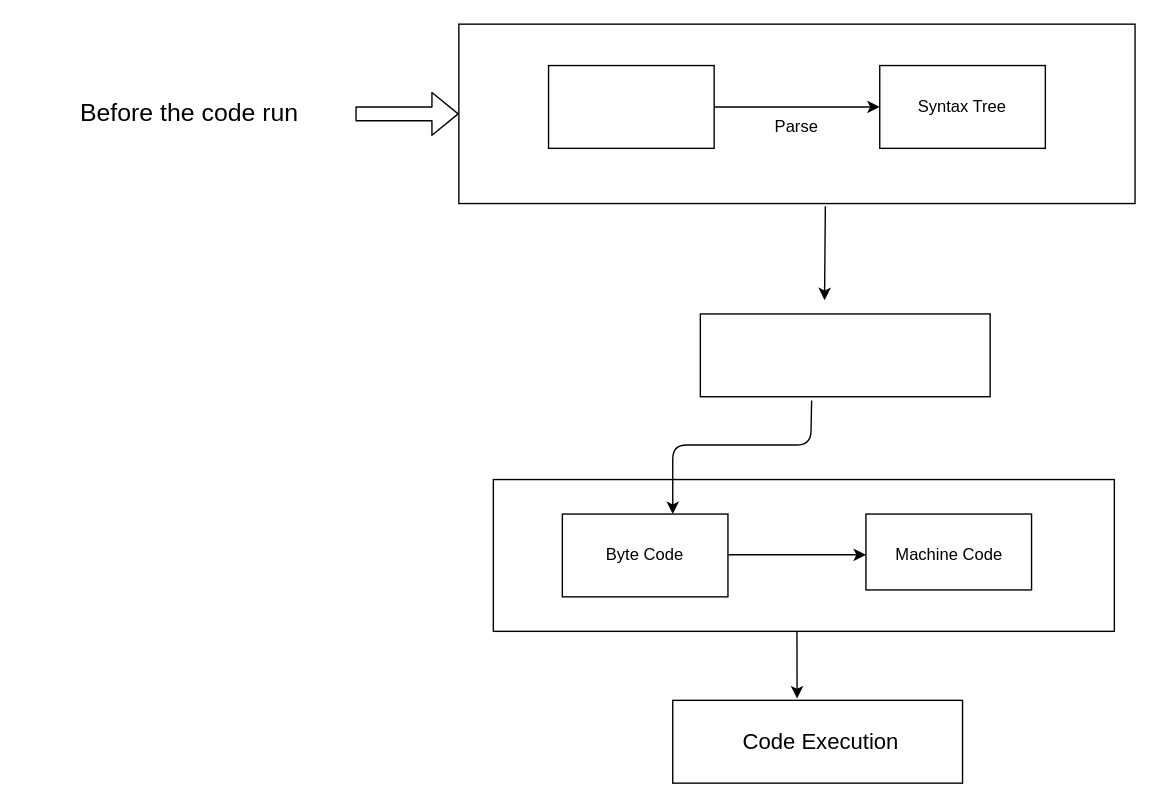
This 1159x807 diagram has some shape labels left out. The shapes that lost their labels are listed below. From the top down, each one's centre as x and y in pixels, then its label:
At pixel 630 106: "Source File".
At pixel 844 355: "JIT Compiler".
